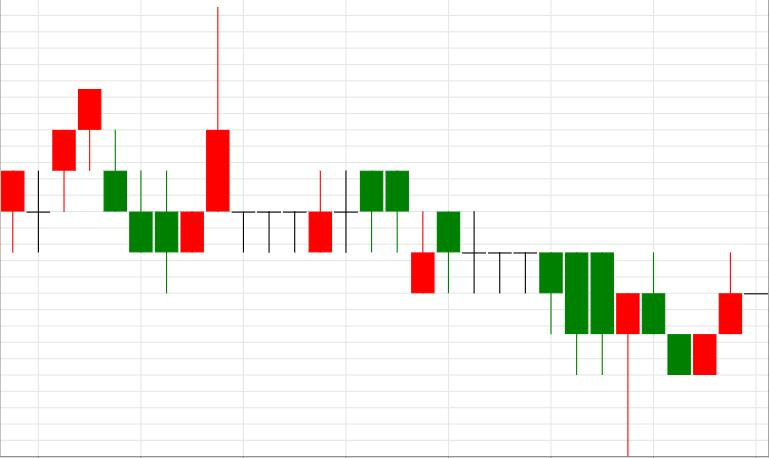hammer_rise: (437, 211, 640, 456)
